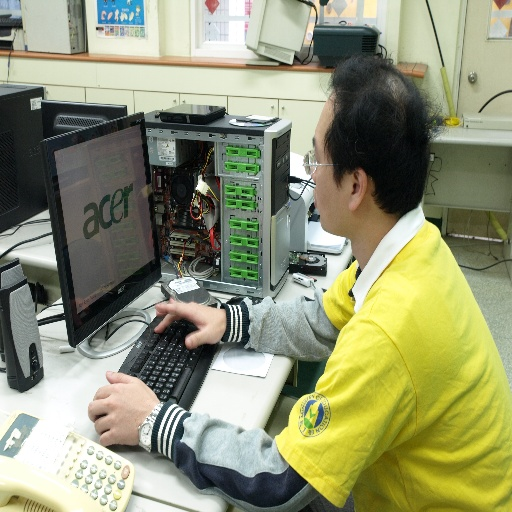hand: (88, 369, 160, 447), (154, 296, 223, 348)
